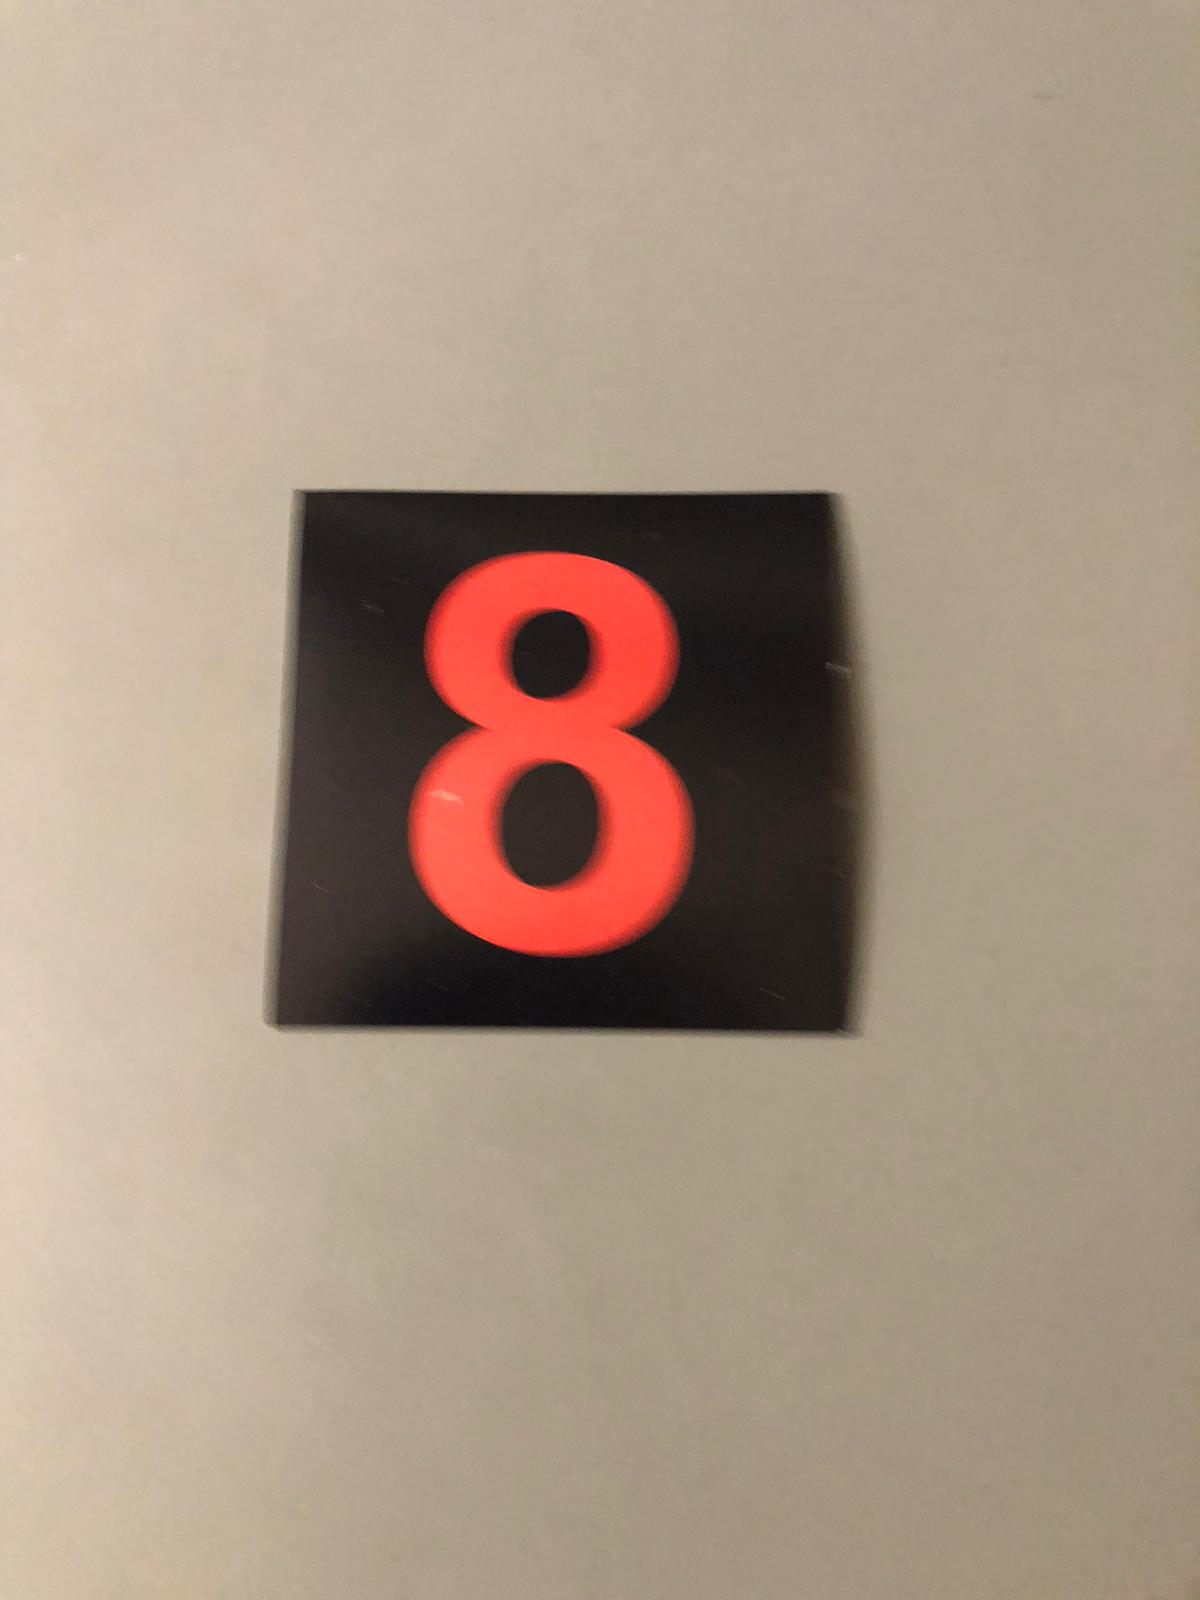Number 8: (303, 505, 845, 1043)
